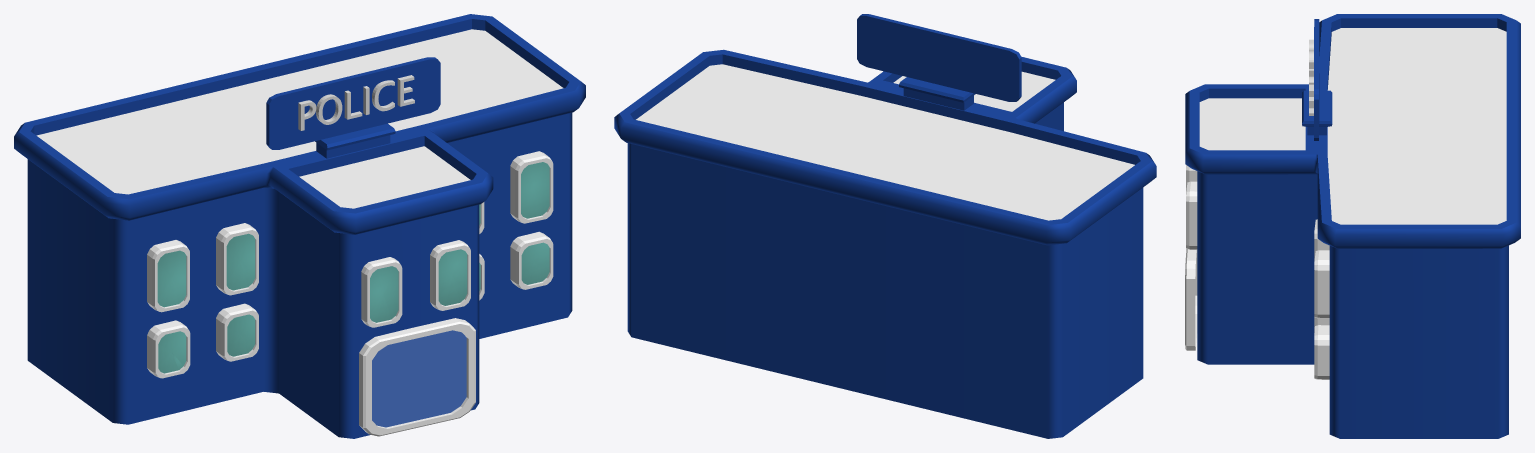
Rendered from SM_Police.fbx.
3 renders of one model, left to right at view 1: azimuth 30°, elevation 25°; view 2: azimuth 150°, elevation 25°; view 3: azimuth 270°, elevation 25°, orthographic. The views are drawn at different scales.
Visible parts, largest first — view 1: SM_Police; view 2: SM_Police; view 3: SM_Police.
Boxes of the visible parts, <box> form: SM_Police: <box>14,14,585,438</box>; SM_Police: <box>614,14,1156,438</box>; SM_Police: <box>1185,14,1520,438</box>.
Bounding box in the file's own units: 1573 × 936 × 1021.
